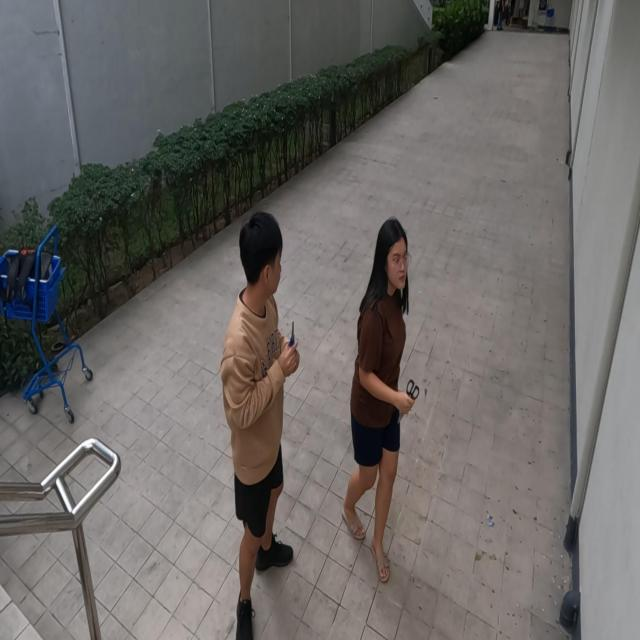scissor: (397, 376, 420, 425), (287, 320, 297, 361)
